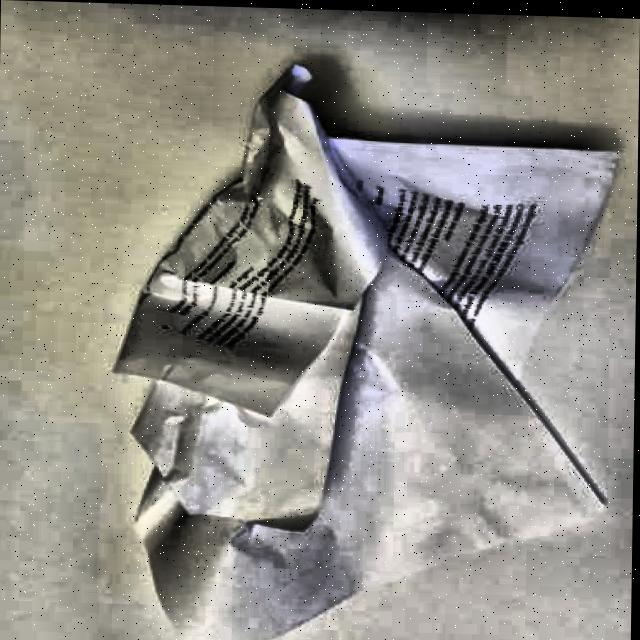paper: (113, 60, 619, 640)
